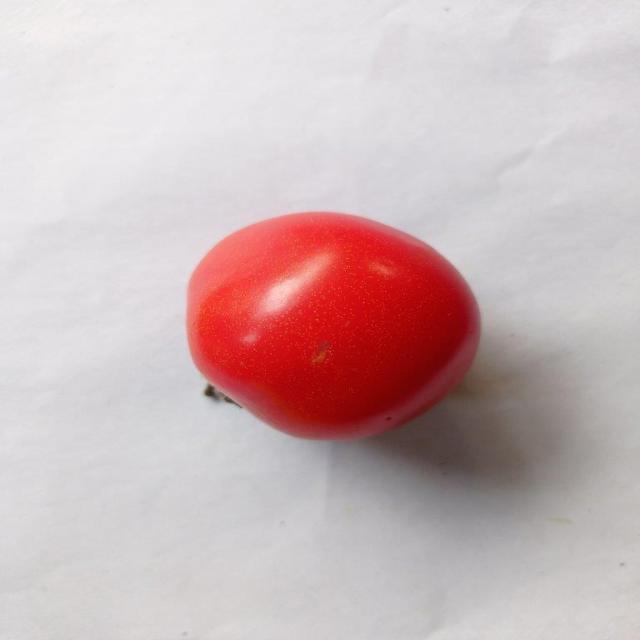Tomato: (178, 208, 489, 446)
